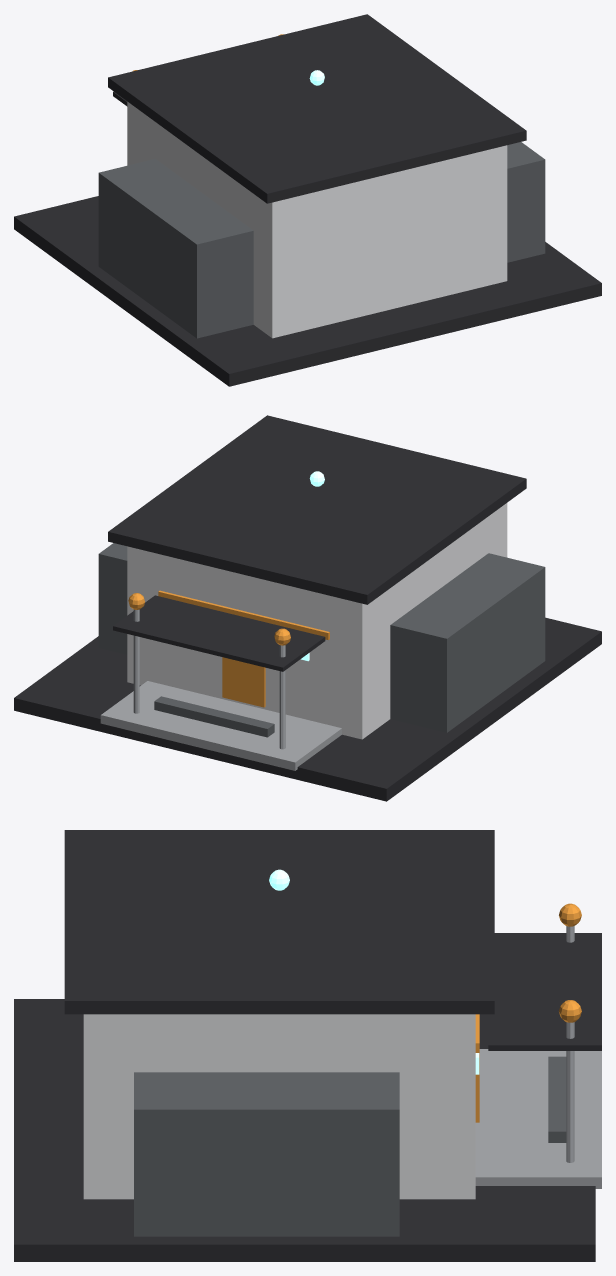
The model's file is SM_Hero_Inn.glb.
3 views of the same model, one above another, from view 1: azimuth 30°, elevation 25°; view 2: azimuth 150°, elevation 25°; view 3: azimuth 270°, elevation 25° (orthographic). The views are drawn at different scales.
Parts seen in each view (by area): view 1: SM_Hero_Inn; view 2: SM_Hero_Inn; view 3: SM_Hero_Inn.
Part boxes in pixels (<box>): SM_Hero_Inn: <box>14,14,601,386</box>; SM_Hero_Inn: <box>14,415,601,801</box>; SM_Hero_Inn: <box>14,830,601,1261</box>.
Size of the model in its own units: 5.52 by 2.81 by 5.58.
